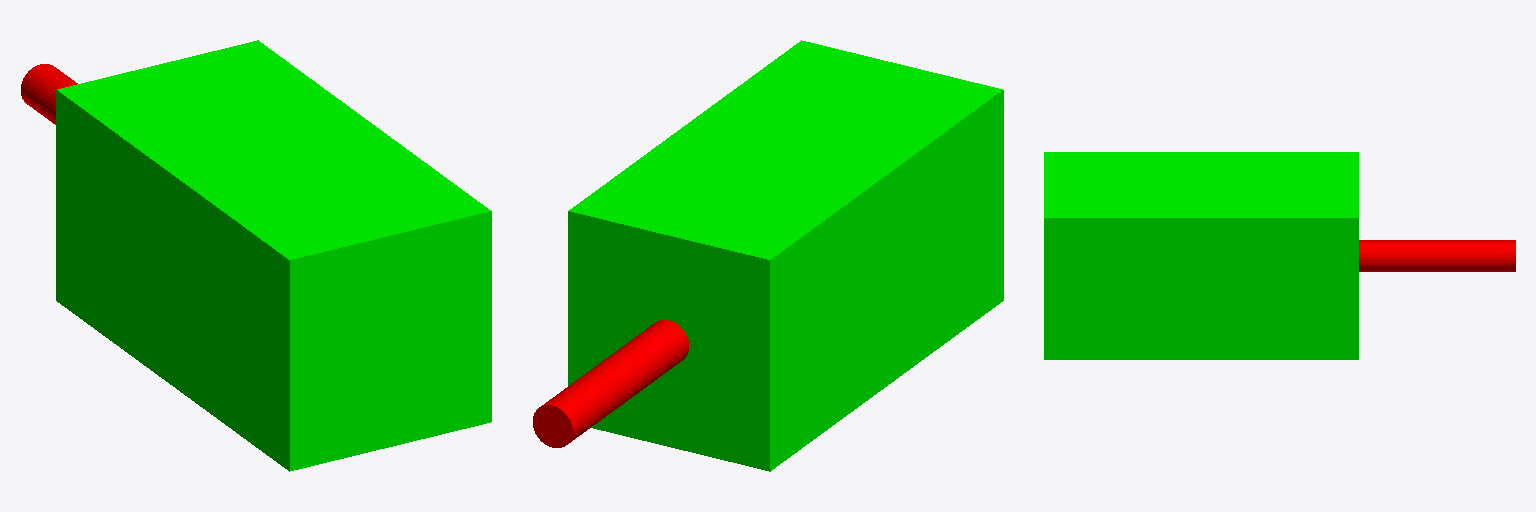
The robot description file, URDF, robot "multipleshapes":
<?xml version="1.0"?>
<robot name="multipleshapes">
  <link name="body">
    <visual>
      <geometry>
        <box size="1 2 1"/>
      </geometry>
      <origin xyz="0 -1 0.5"/>
      <material name="green">
	       <color rgba="0 1 0 1" />
      </material>
    </visual>
  </link>

  <link name="base_link">
    <visual>
      <geometry>
        <cylinder length="1" radius="0.1"/>
      </geometry>
      <origin rpy="1.57075 1.57075 0" xyz="0 0.5 0.5"/> -->
      <material name="red">
	       <color rgba="1 0 0 1" />
      </material>
    </visual>
  </link>

  <joint name="body_to_arm_base" type="revolute">
    <parent link="body"/>
    <child link="base_link"/>
  </joint>

</robot>

--- Facts derived from the render (not from the file) ---
The picture shows the robot from 3 angles, left to right: view 1: azimuth 30°, elevation 25°; view 2: azimuth 150°, elevation 25°; view 3: azimuth 270°, elevation 25°; orthographic projection.
Robot: multipleshapes — 2 links, 1 joints (1 revolute); root link body; default pose: every joint at zero.
Visible links, largest first — view 1: body, base_link; view 2: body, base_link; view 3: body, base_link.
Link boxes in pixels (bbox=[...]): body: bbox=[56, 40, 491, 471]; base_link: bbox=[21, 64, 77, 124]; body: bbox=[568, 40, 1003, 471]; base_link: bbox=[533, 320, 688, 447]; body: bbox=[1044, 152, 1358, 359]; base_link: bbox=[1359, 240, 1515, 271].
Size in the robot's own frame: 1 by 3 by 1 metres.
Geometry: primitives only (box / cylinder / sphere), no mesh files.
